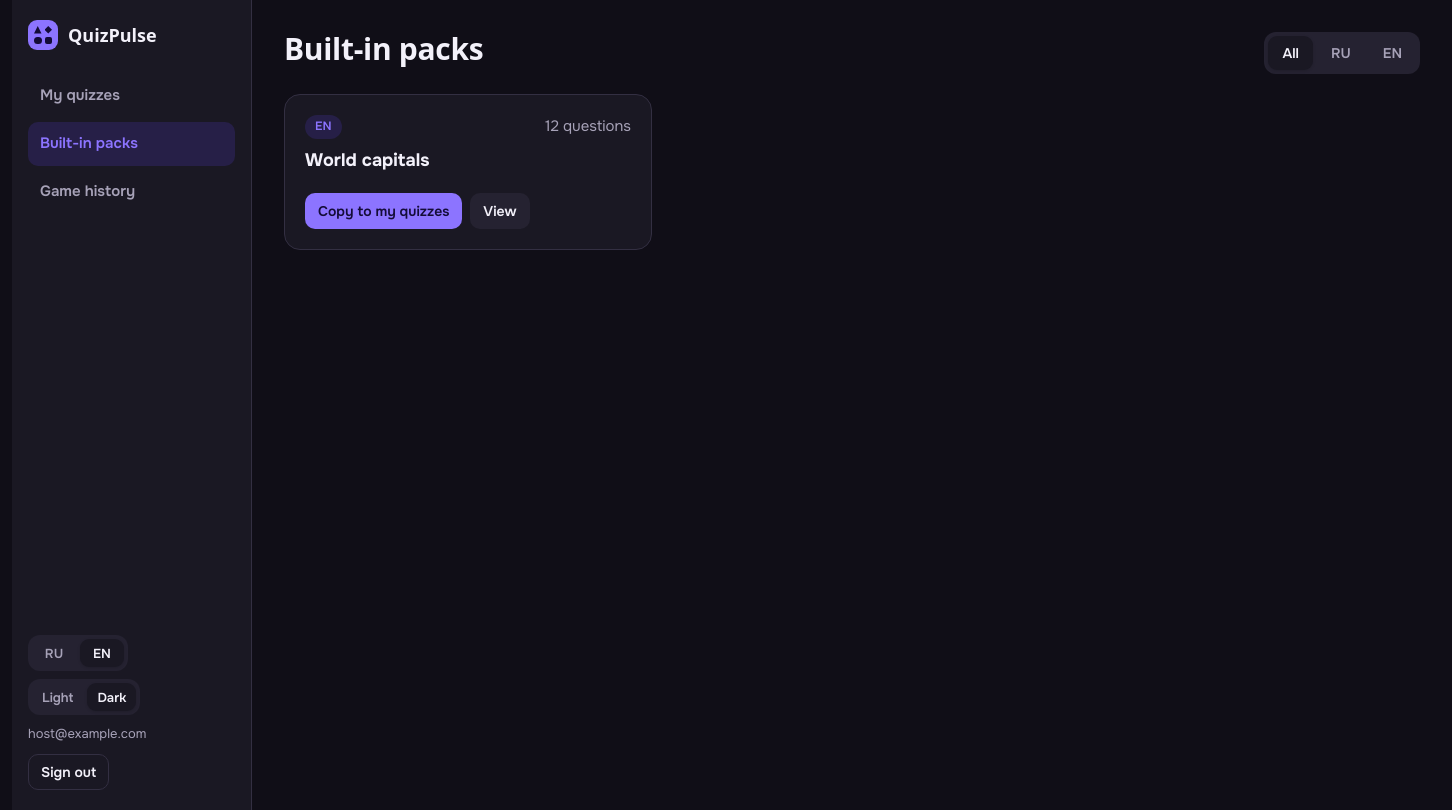
Test case: packs page › copy shows toast with open action
Click the button "Copy to my quizzes": (384, 211) 305,193 -> 462,229
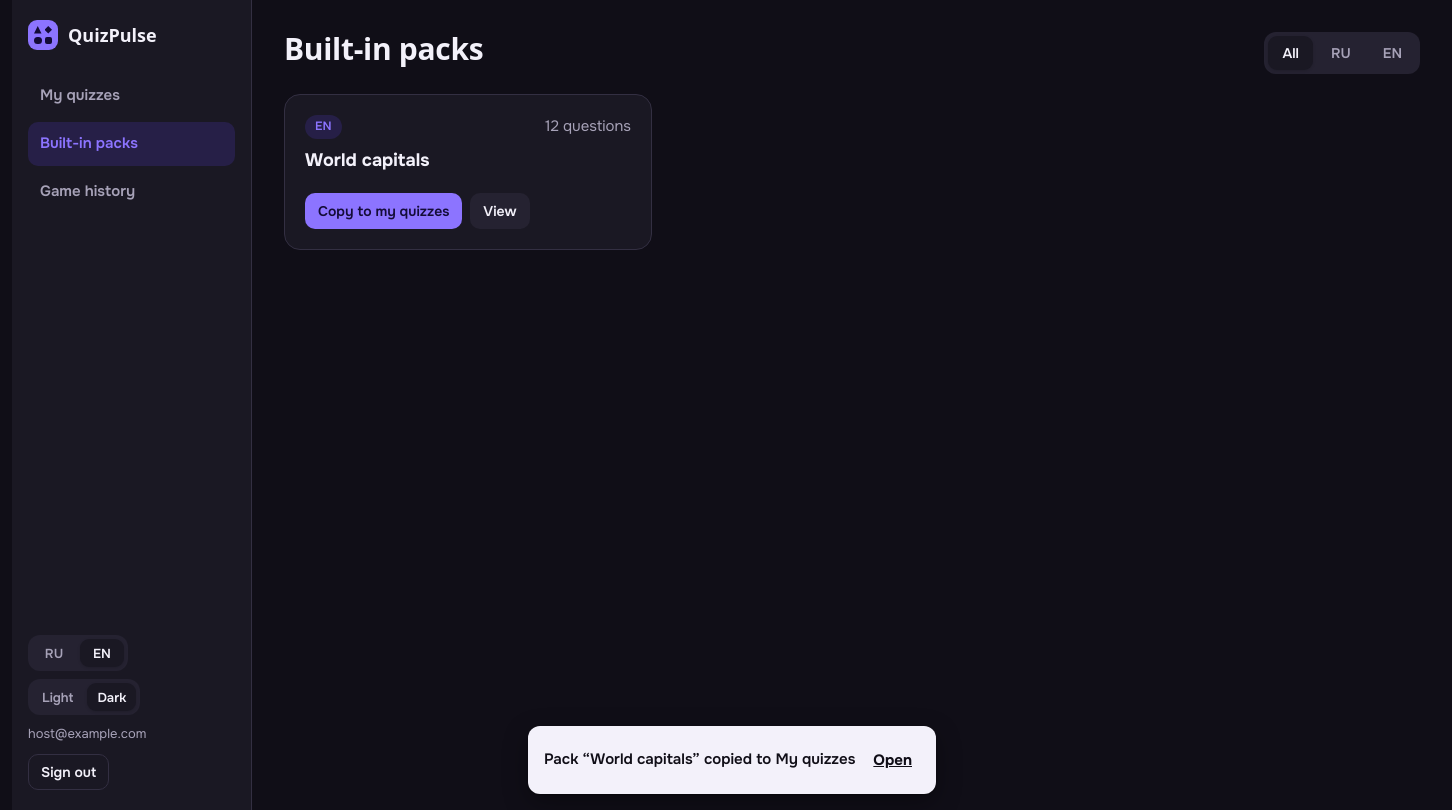
Click the button "Open": (893, 760) 865,738 -> 920,782
(page scrolled)
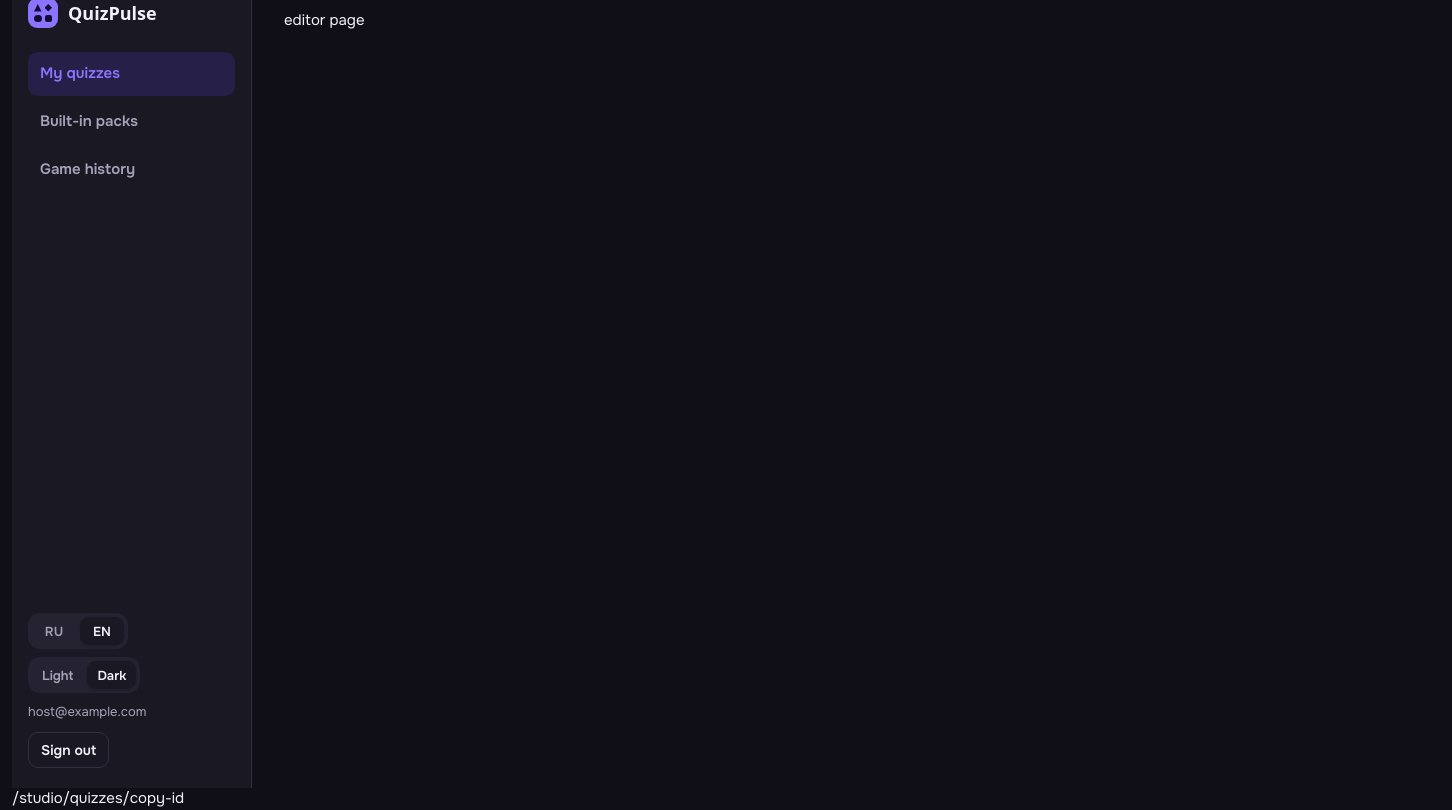
Now the text with test id "where" reads "/studio/quizzes/copy-id", box 12,788 -> 184,808
